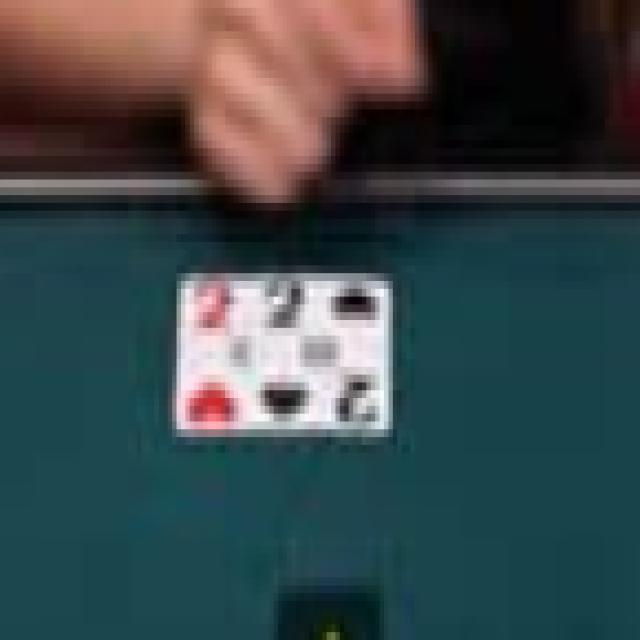Card-2: (258, 268, 392, 437), (177, 266, 253, 432)
